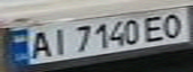0: (121, 16, 145, 45)
1: (90, 20, 112, 50)
4: (106, 18, 127, 47)
7: (69, 21, 93, 53)
A: (24, 28, 54, 60)
E: (139, 12, 172, 43)
I: (45, 25, 72, 56)
O: (157, 10, 190, 38)
